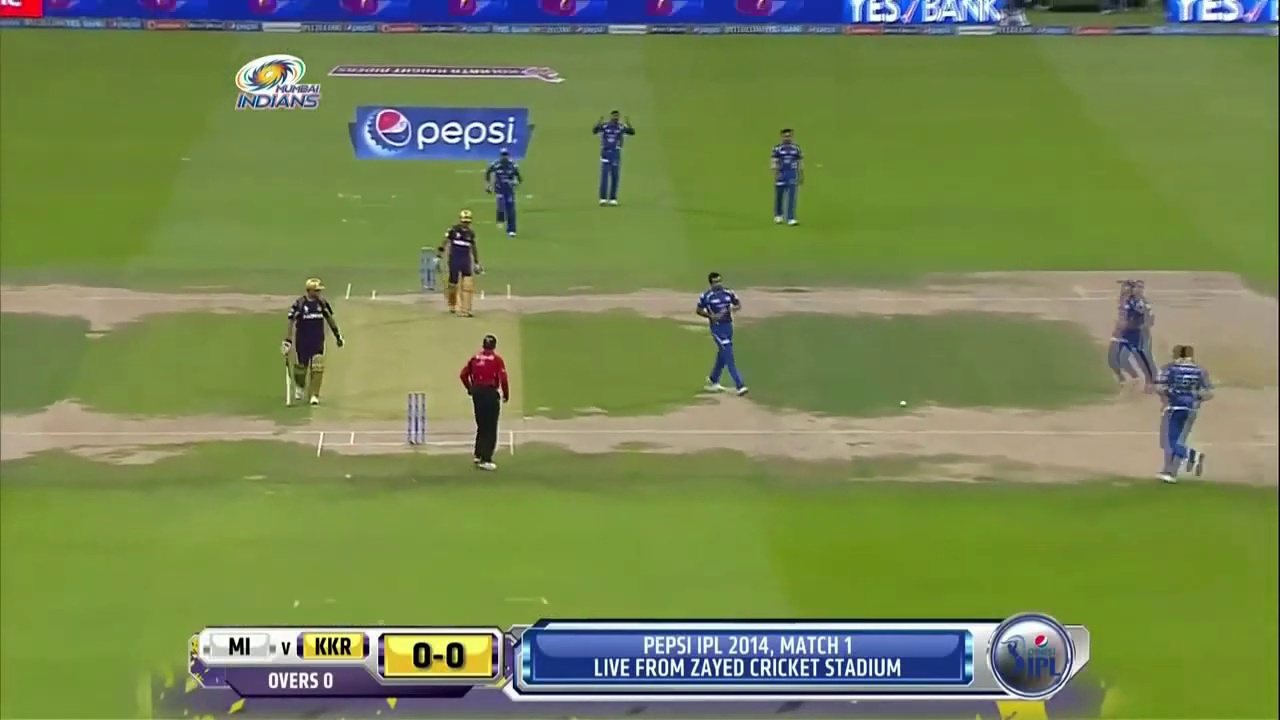bat: (285, 358, 292, 405)
stumps: (405, 390, 428, 446)
